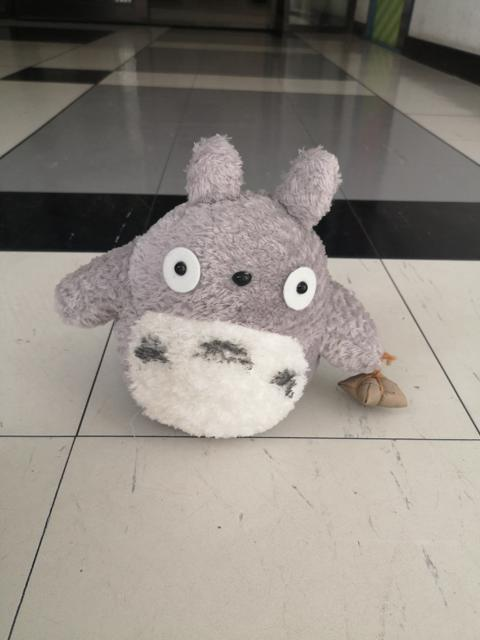totoro: (50, 129, 413, 442)
